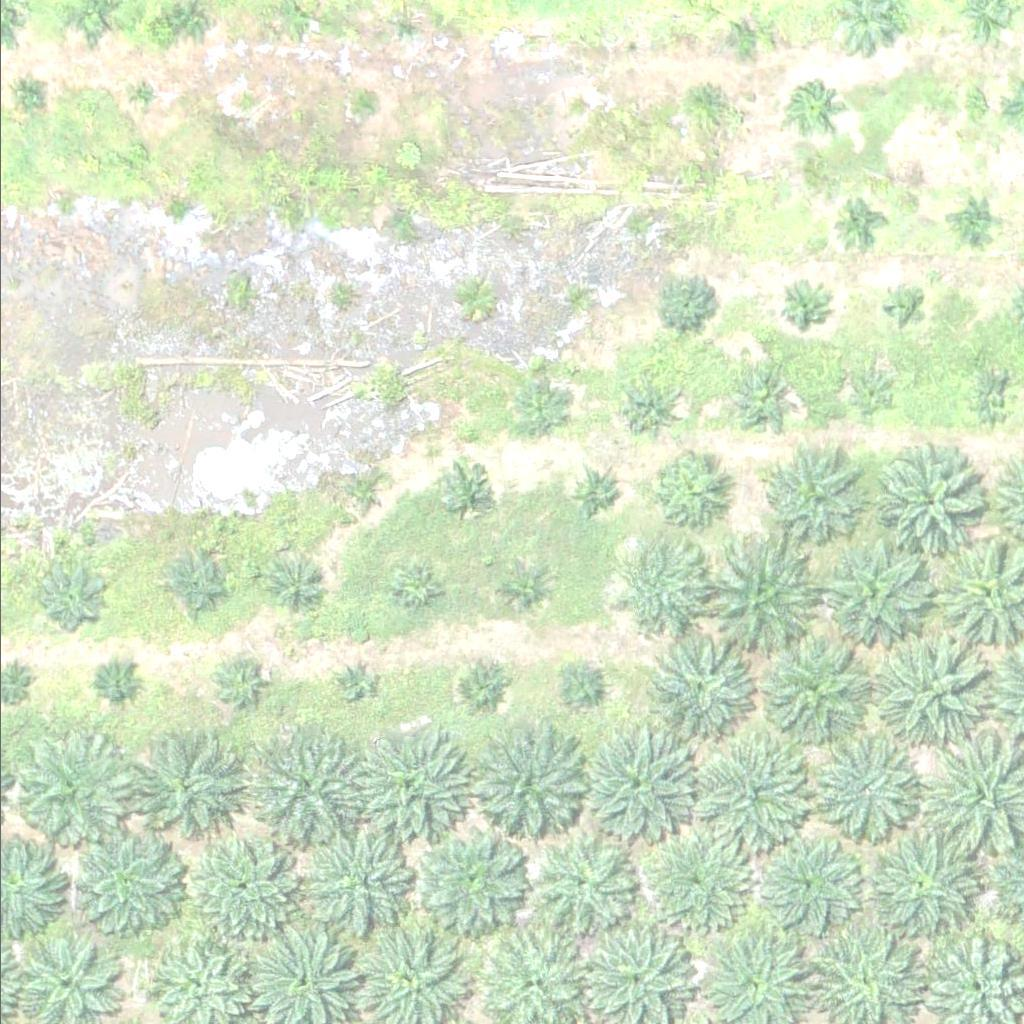Kelapa_Sawit: (869, 626, 995, 751), (696, 741, 810, 854), (10, 734, 124, 847), (641, 627, 754, 740), (352, 731, 465, 844), (250, 732, 363, 845), (135, 732, 248, 845), (641, 819, 754, 932), (66, 824, 179, 937), (752, 633, 866, 745), (696, 541, 810, 653), (812, 537, 926, 649), (864, 829, 977, 941), (575, 729, 688, 841), (463, 729, 576, 841), (414, 826, 527, 938), (529, 833, 642, 945), (748, 832, 849, 932), (808, 744, 909, 844), (195, 842, 296, 942), (309, 838, 410, 938), (879, 453, 979, 553), (753, 441, 853, 541), (642, 443, 730, 530), (615, 543, 703, 630), (36, 561, 111, 636), (615, 378, 678, 441), (656, 273, 719, 336), (725, 372, 788, 434), (261, 557, 324, 619), (164, 556, 227, 618), (563, 466, 626, 528), (831, 195, 882, 245), (777, 279, 828, 329), (216, 659, 267, 709), (718, 13, 769, 63), (683, 75, 734, 125), (92, 655, 143, 705), (509, 385, 559, 435), (445, 461, 495, 511), (966, 377, 1016, 427), (949, 197, 999, 247), (786, 80, 836, 130), (389, 563, 439, 613), (498, 564, 548, 614), (847, 366, 897, 416), (557, 661, 607, 711), (454, 662, 504, 712), (884, 286, 922, 324), (343, 478, 381, 516), (334, 661, 372, 699), (121, 79, 159, 117), (169, 3, 207, 41), (384, 8, 422, 45), (17, 81, 43, 106), (357, 93, 382, 118), (566, 90, 591, 115)
